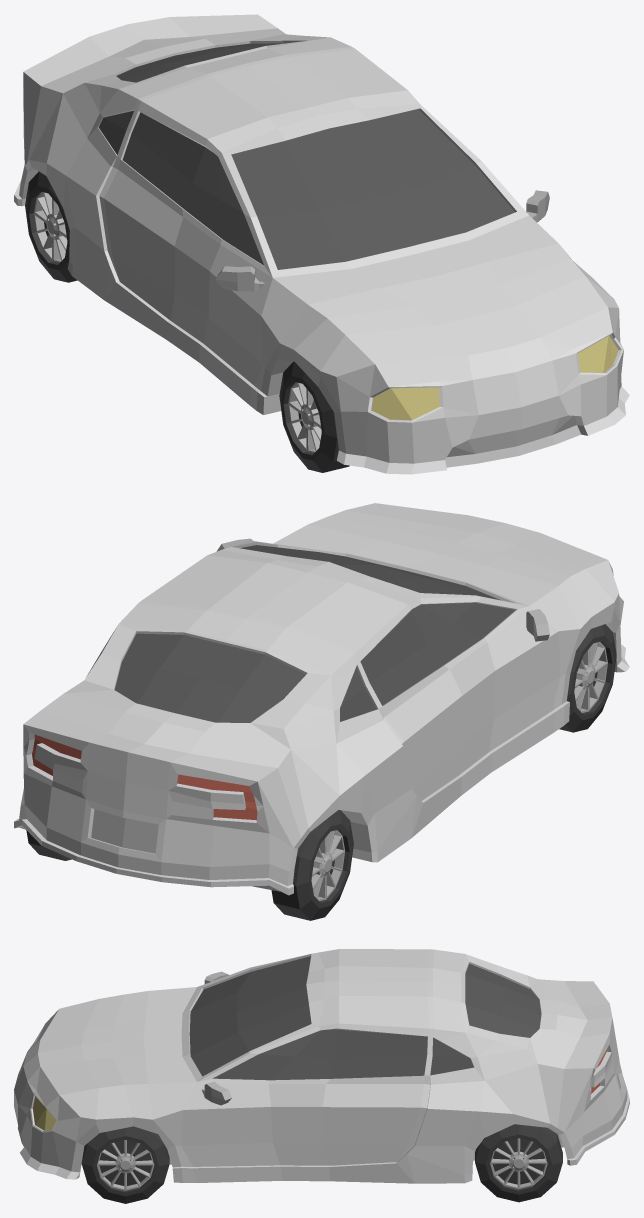
The model's file is SportsCar2.fbx.
3 views of the same model, one above another, from view 1: azimuth 30°, elevation 25°; view 2: azimuth 150°, elevation 25°; view 3: azimuth 270°, elevation 25° (orthographic). The views are drawn at different scales.
Parts seen in each view (by area): view 1: Body, Wheels_Front, Wheels_Rear; view 2: Body, Wheels_Rear, Wheels_Front; view 3: Body, Wheels_Rear, Wheels_Front.
Part boxes in pixels (x1,y1,x2,y2): Body: (14, 14, 629, 474); Wheels_Front: (279, 361, 349, 472); Wheels_Rear: (25, 171, 77, 282); Body: (14, 503, 629, 895); Wheels_Rear: (26, 810, 353, 920); Wheels_Front: (559, 624, 616, 732); Body: (14, 949, 629, 1183); Wheels_Rear: (475, 1124, 562, 1202); Wheels_Front: (81, 1126, 169, 1203).
Bounding box in the file's own units: 1.87 × 1.2 × 3.93.
